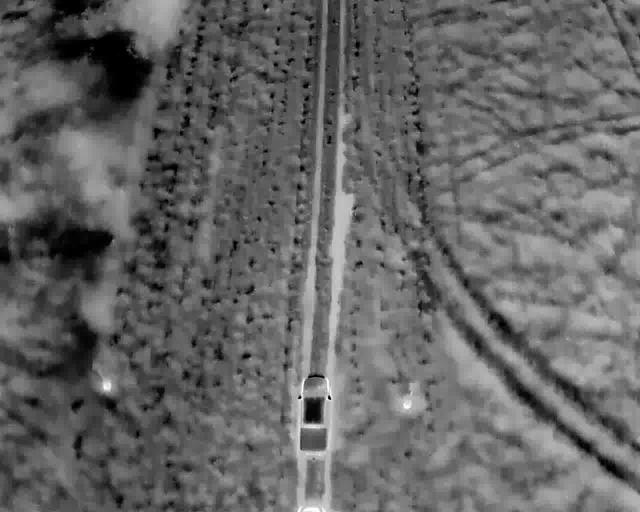car: (297, 372, 333, 459)
